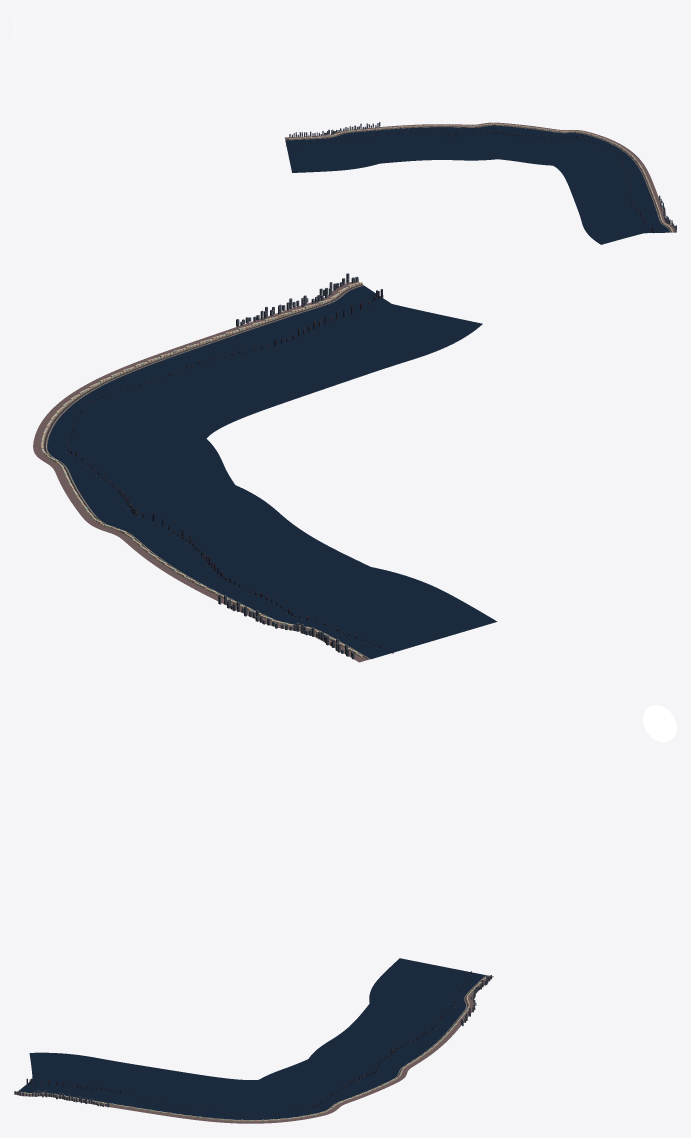
File: diwali.glb
The picture shows the model from 3 angles, top to bottom: view 1: azimuth 30°, elevation 25°; view 2: azimuth 150°, elevation 25°; view 3: azimuth 270°, elevation 25°; orthographic projection. The views are drawn at different scales.
Parts seen in each view (by area): view 1: Sea, Peaks; view 2: Sea, Peaks, Land_000, Land_001, Land_009, Land_002, Land_003, Land_006, Land_010, Land_004, Land_008, Land_005 (+1 smaller); view 3: Sea, Sun, Peaks.
Part boxes in pixels (<box>): Sea: <box>285,125,669,244</box>; Peaks: <box>286,130,653,233</box>; Sea: <box>47,285,497,659</box>; Peaks: <box>67,289,393,653</box>; Land_000: <box>282,273,363,315</box>; Land_001: <box>203,304,291,343</box>; Land_009: <box>225,596,311,633</box>; Land_002: <box>123,338,210,371</box>; Land_003: <box>58,367,132,406</box>; Land_006: <box>64,488,118,532</box>; Land_010: <box>303,626,370,662</box>; Land_004: <box>33,404,69,448</box>; Land_008: <box>161,565,234,604</box>; Land_005: <box>33,446,77,491</box>; Sea: <box>18,958,485,1119</box>; Sun: <box>643,705,676,742</box>; Peaks: <box>26,971,471,1116</box>.
Size of what is drawn, in the model's own units: 9714 by 2482 by 9971.
